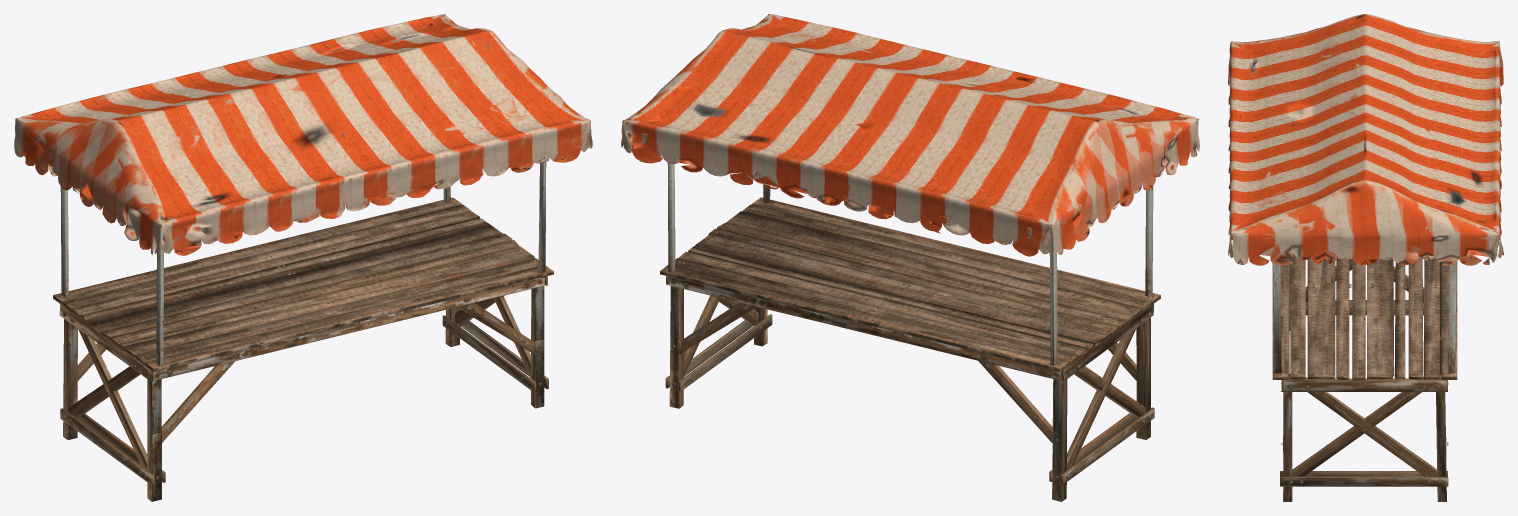
Rendered from torikoju_oranssi_puupoyta_meshy.glb.
3 renders of one model, left to right at view 1: azimuth 30°, elevation 25°; view 2: azimuth 150°, elevation 25°; view 3: azimuth 270°, elevation 25°, orthographic. The views are drawn at different scales.
Bounding box in the file's own units: 2.65 × 2 × 1.58.
1 material, 1 textured.
